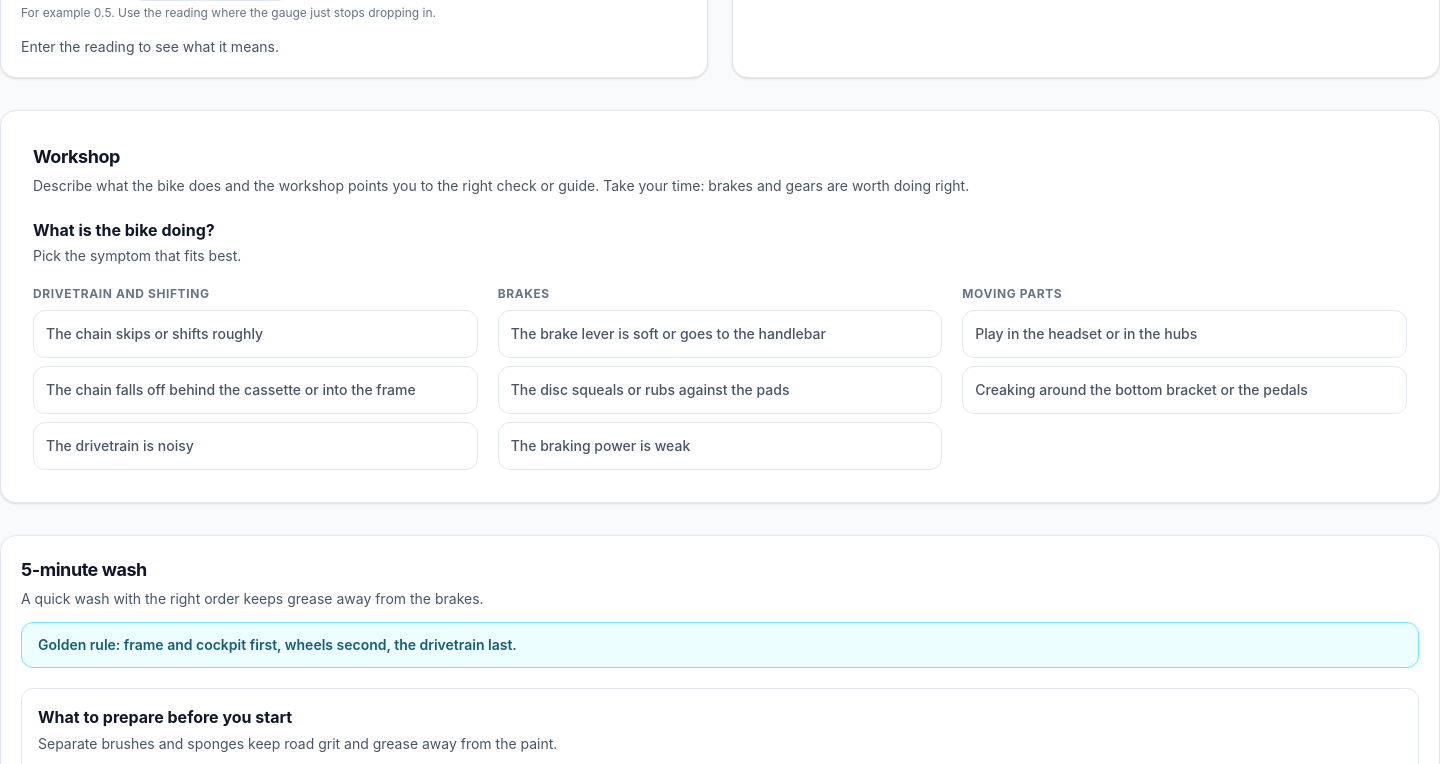
Test case: the workshop of bAIkcare (en) › the troubleshooter › should open the guide that the symptom points to and come back to the workshop
(page scrolled)
Click the button with test id "symptom-chainDrops".
click(255, 390)  # box [33,366,478,414]
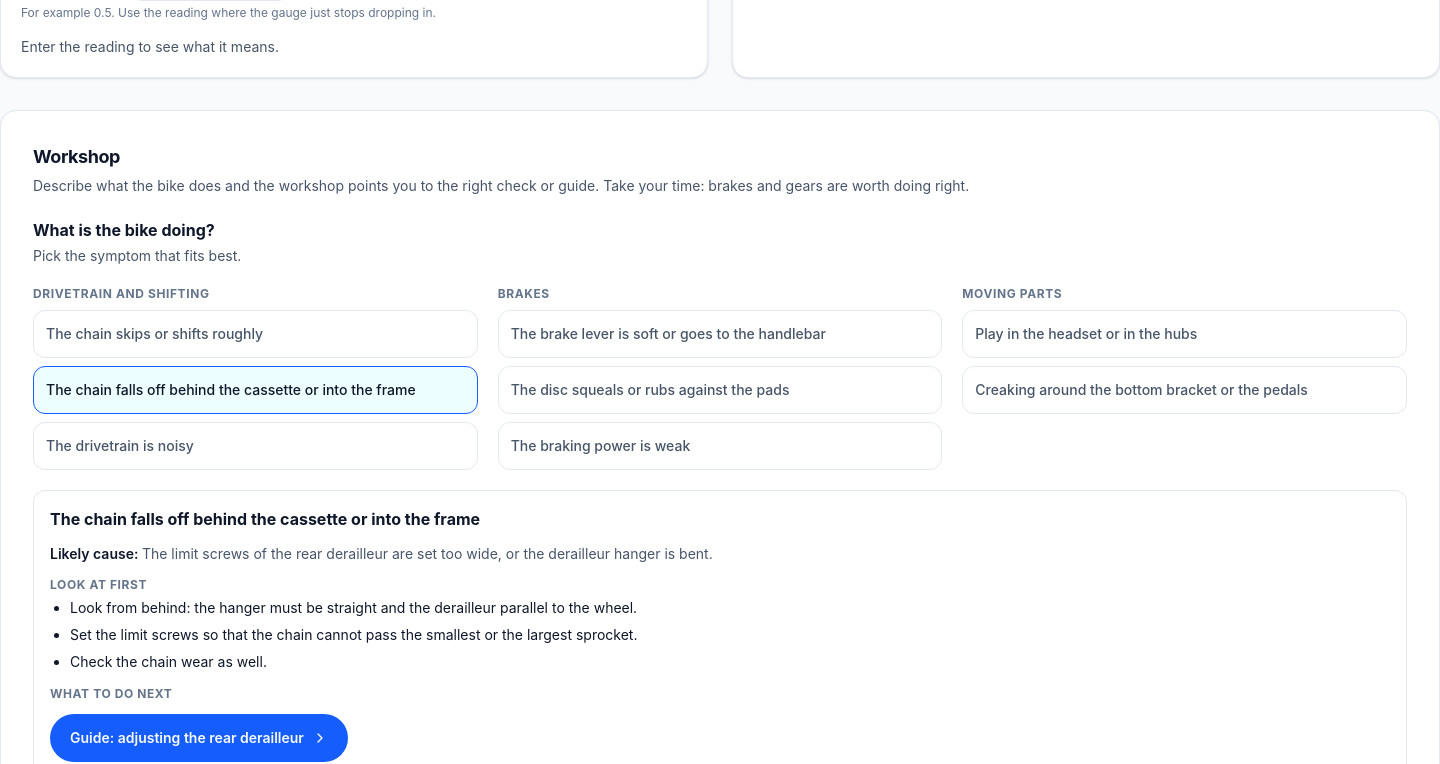
Click the button "Guide: adjusting the rear derailleur".
click(199, 738)  # box [50,714,348,762]
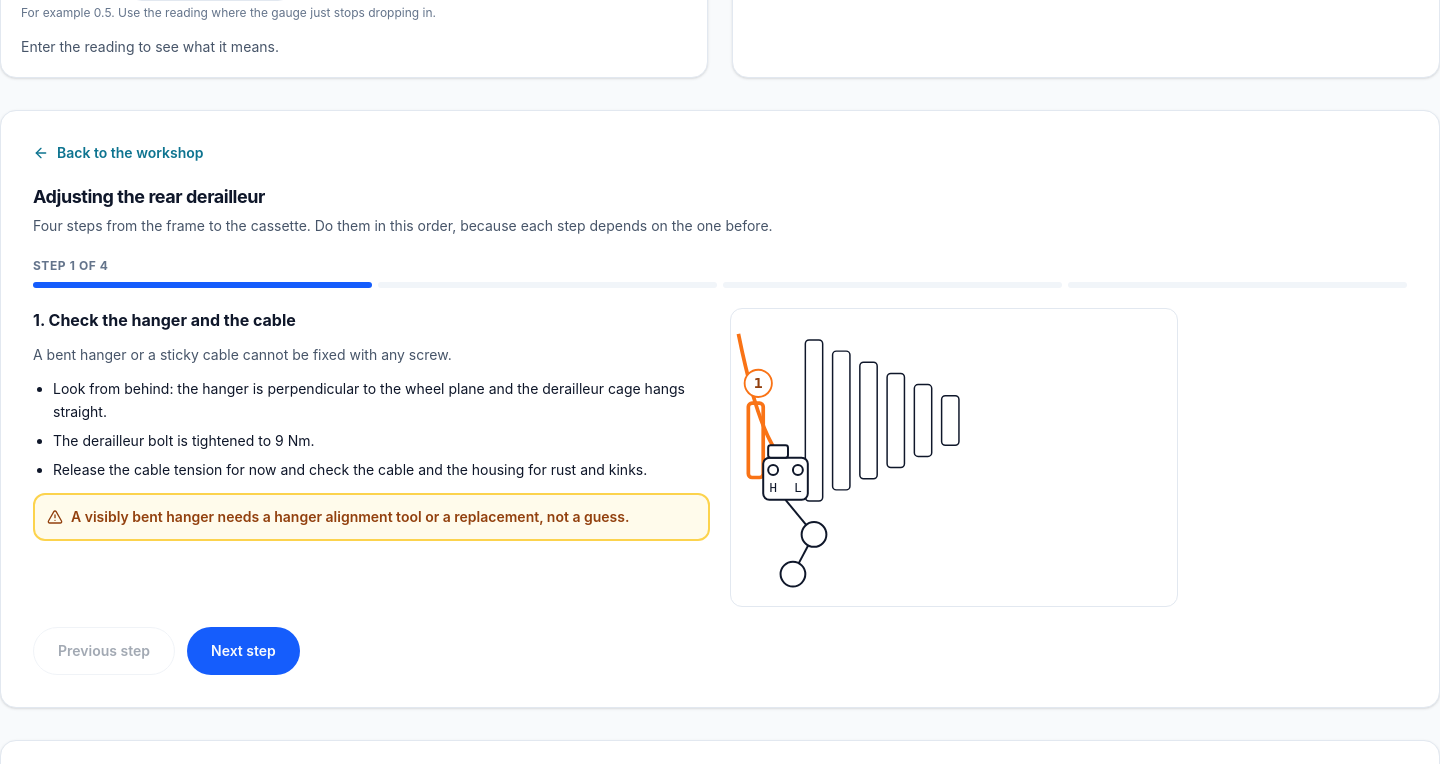
Now the element with test id "derailleur-wizard" is shown
Click the button with test id "wizard-back".
click(118, 153)  # box [33,143,204,163]
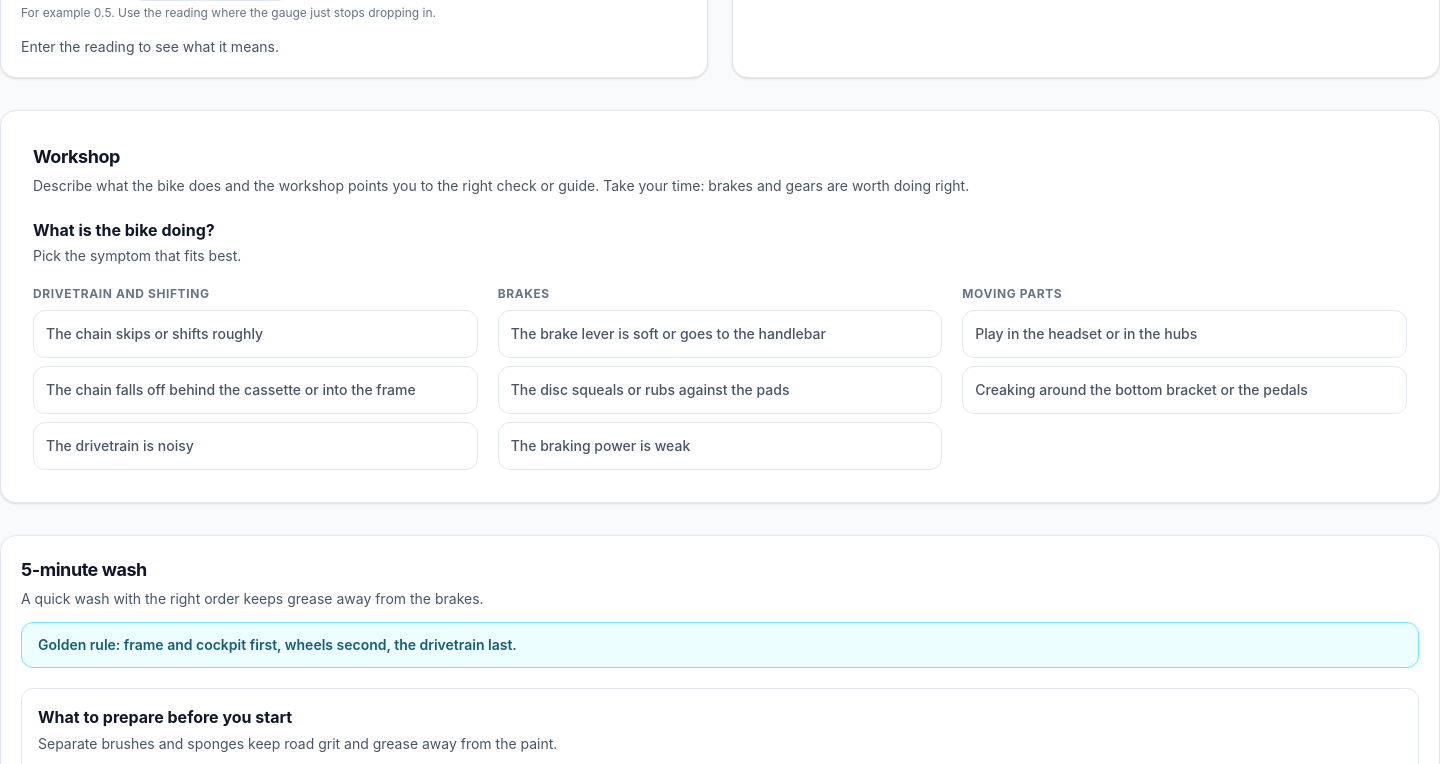
Now the element with test id "troubleshooter" is shown, box [33,218,1407,470]
